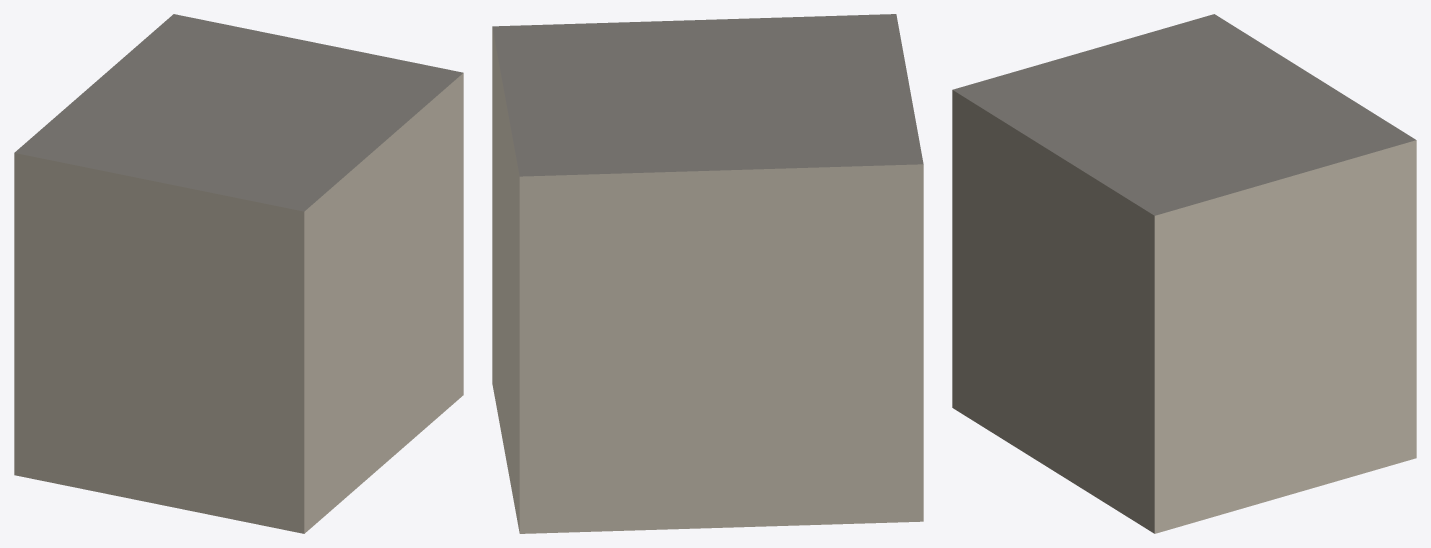
The picture shows the model from 3 angles, left to right: view 1: azimuth 30°, elevation 25°; view 2: azimuth 150°, elevation 25°; view 3: azimuth 270°, elevation 25°; orthographic projection. The views are drawn at different scales.
Parts seen in each view (by area): view 1: HP-w1286965193; view 2: HP-w1286965193; view 3: HP-w1286965193.
Part boxes in pixels (left/top/right/bottom): HP-w1286965193: left=14, top=14, right=463, bottom=533; HP-w1286965193: left=492, top=14, right=923, bottom=533; HP-w1286965193: left=952, top=14, right=1416, bottom=533.
Bounding box in the file's own units: 24.5 × 18 × 23.8.
